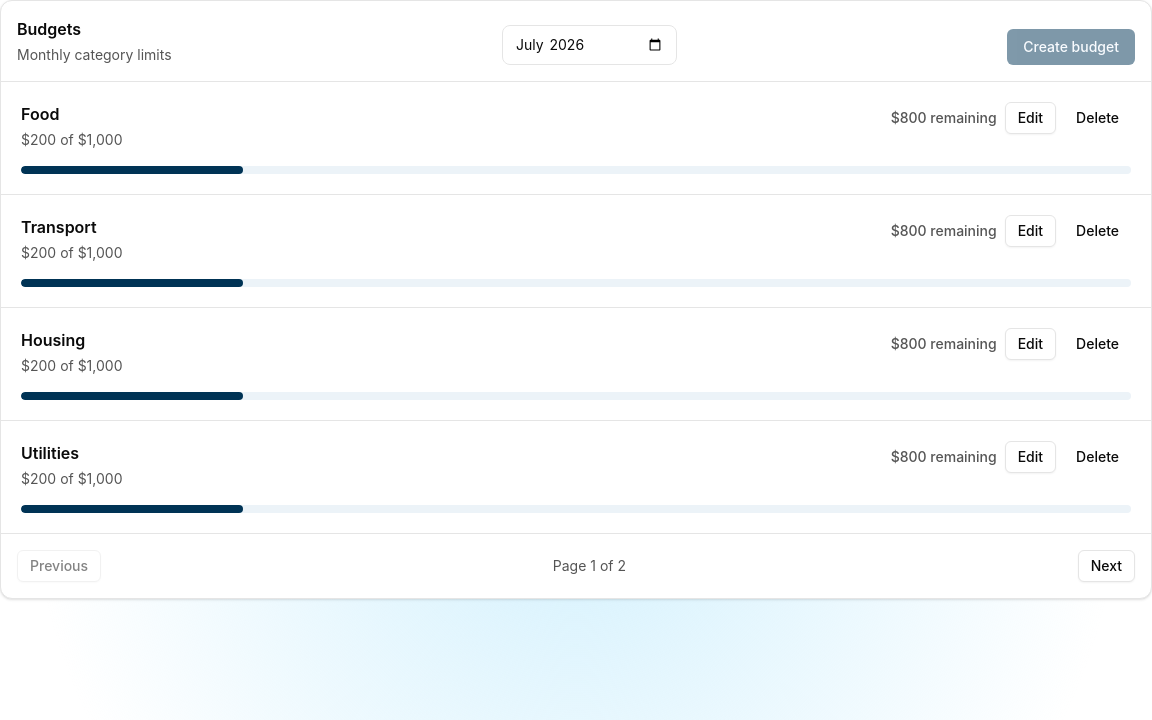
Test: BudgetsView › shows four budgets per page and navigates between pages
expect the heading "Food" is shown: met, box [21,104,59,124]
expect the heading "Health" is not shown: met
Click the button named "Next budgets page" at (1106, 566), box [1078,550,1135,582]
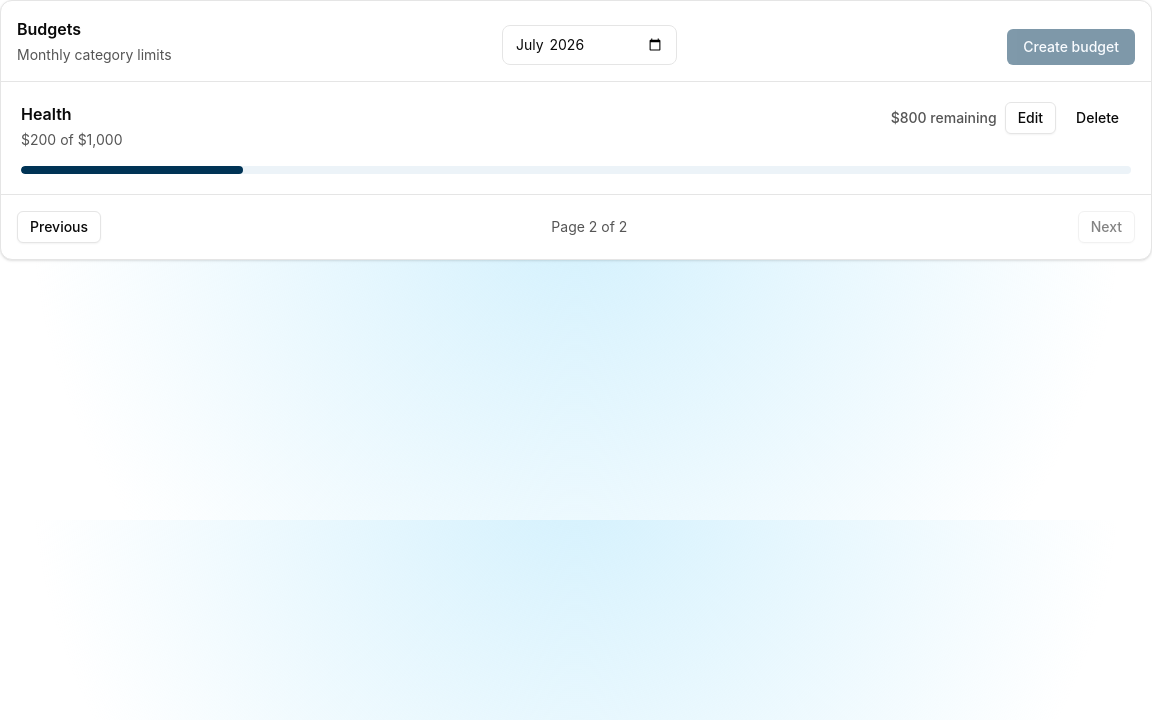
expect the heading "Health" is shown: met, box [21,104,72,124]
expect the text "Page 2 of 2" is shown: met, box [551,217,627,237]
expect the button named "Next budgets page" is disabled: met, box [1078,211,1135,243]
